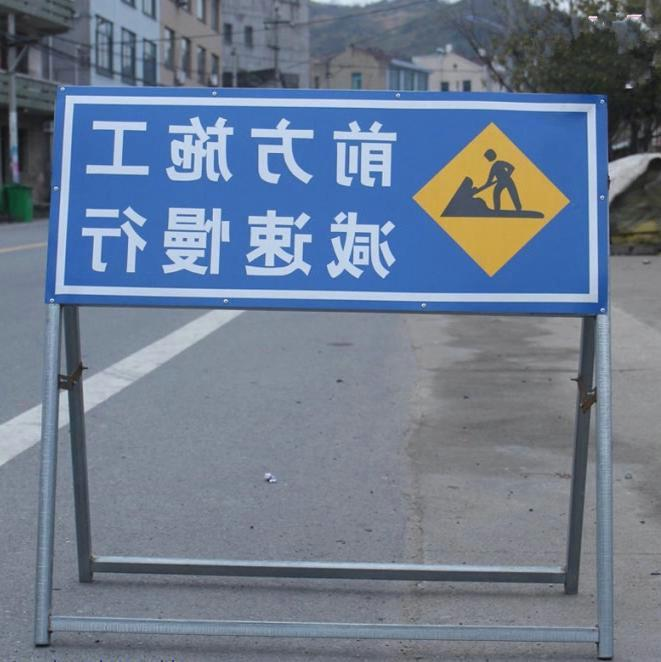sign: (44, 88, 607, 312)
